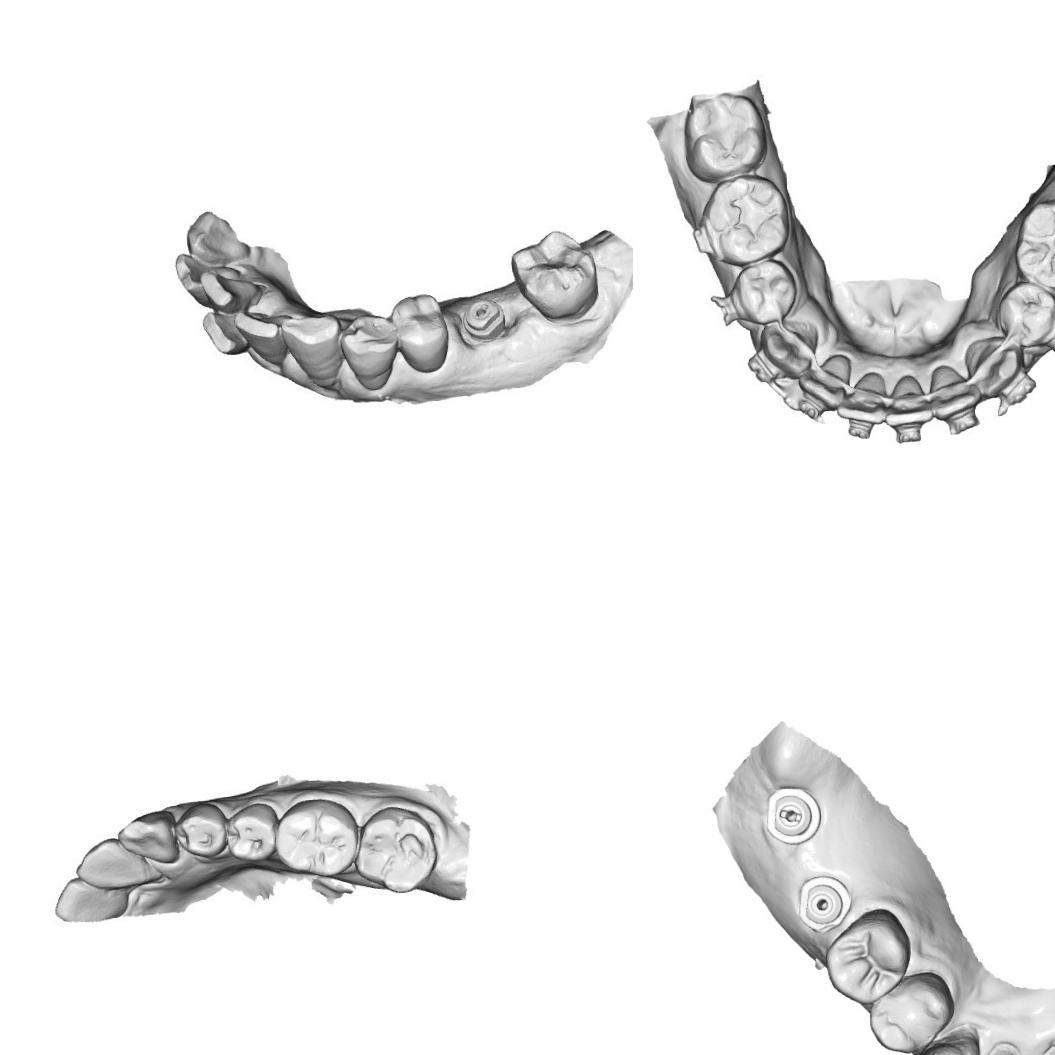canine: (280, 308, 344, 392), (184, 206, 252, 266), (757, 318, 820, 378), (962, 334, 1023, 390), (118, 810, 182, 862), (912, 1034, 979, 1055)
implant: (795, 878, 850, 923)
implant_minus: (758, 790, 818, 846), (464, 297, 510, 346)
incisor: (75, 837, 156, 890), (56, 880, 132, 926), (796, 352, 856, 405), (883, 371, 935, 430), (929, 362, 982, 419), (240, 310, 287, 374), (200, 268, 264, 312), (835, 372, 887, 426), (196, 309, 249, 359), (172, 252, 209, 304)
molar: (507, 227, 602, 324), (680, 90, 767, 182), (703, 176, 789, 264), (276, 797, 360, 881), (355, 809, 434, 889), (1013, 198, 1055, 294)
premolar: (822, 911, 912, 1007), (863, 971, 954, 1055), (334, 315, 400, 395), (732, 255, 799, 327), (394, 294, 452, 375), (999, 280, 1055, 344), (228, 808, 278, 862), (176, 801, 222, 856)
